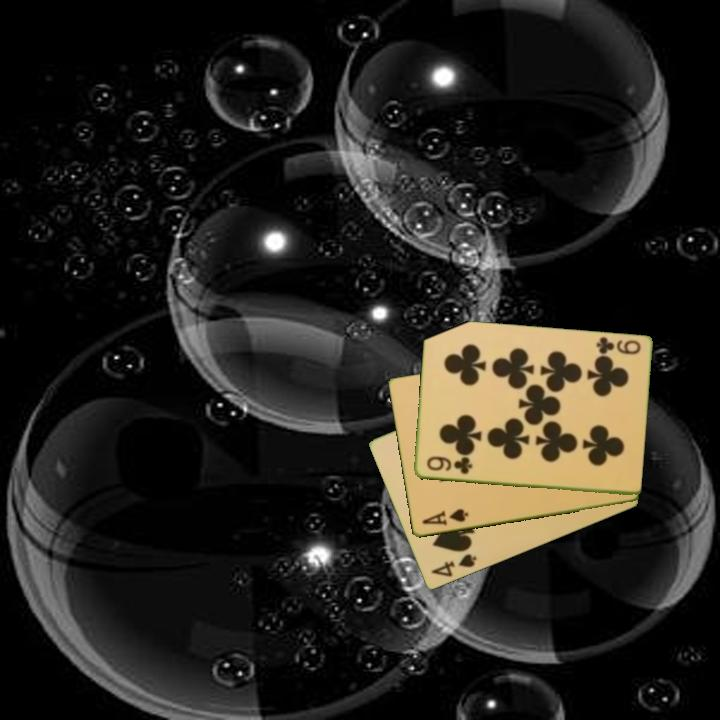4s: (427, 550, 480, 580)
9c: (423, 453, 475, 477), (593, 334, 643, 358)
As: (418, 505, 471, 529)
